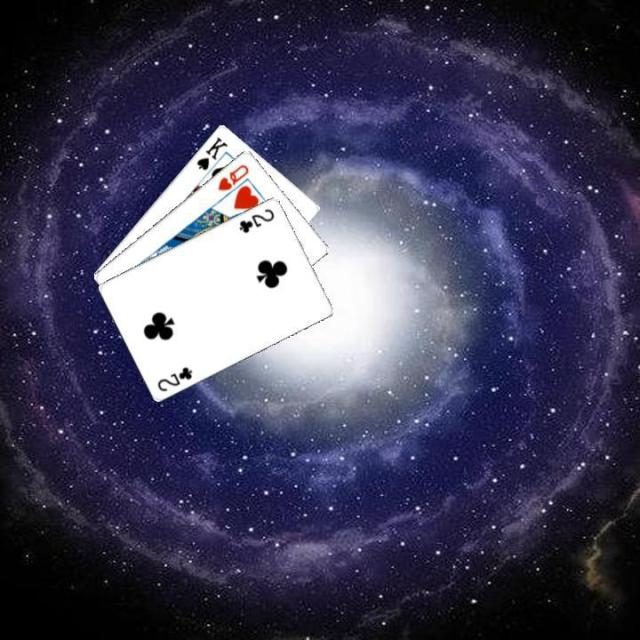2C: (153, 363, 195, 393), (236, 204, 276, 234)
KS: (192, 132, 229, 172)
QH: (213, 160, 251, 192)
